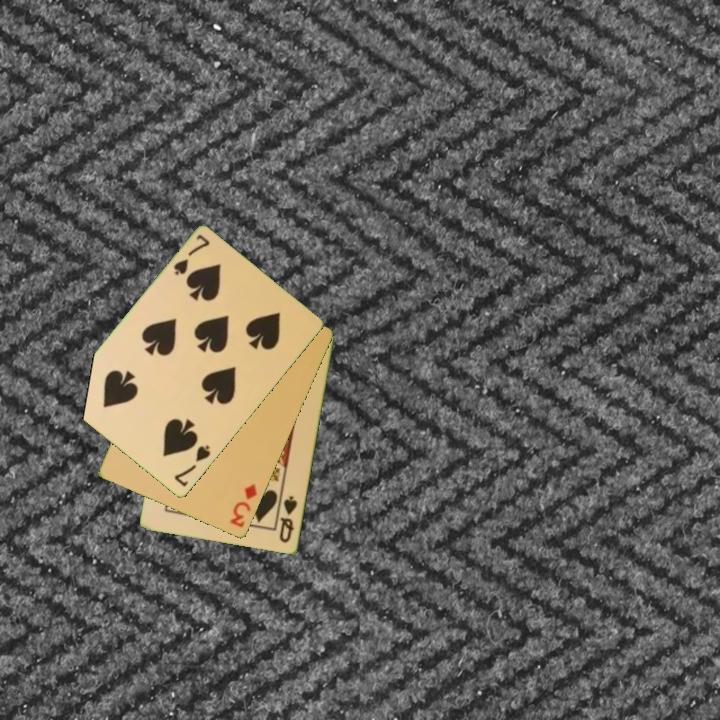3d: (227, 481, 260, 531)
7s: (171, 442, 214, 490), (170, 231, 213, 279)
Qs: (276, 493, 300, 546)
